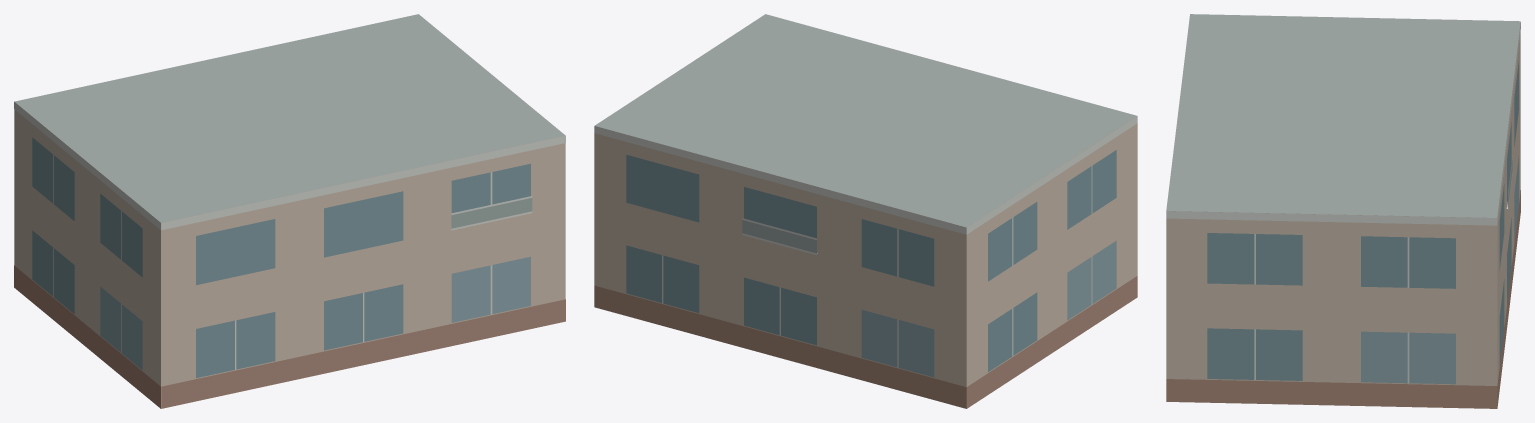
Rendered from survey-upis-32867991.glb.
3 renders of one model, left to right at view 1: azimuth 30°, elevation 25°; view 2: azimuth 150°, elevation 25°; view 3: azimuth 270°, elevation 25°, orthographic. The views are drawn at different scales.
Visible parts, largest first — view 1: survey-upis-32867991.tmp; view 2: survey-upis-32867991.tmp; view 3: survey-upis-32867991.tmp.
Boxes of the visible parts, left/top/right/bottom form: survey-upis-32867991.tmp: left=14, top=14, right=565, bottom=408; survey-upis-32867991.tmp: left=594, top=14, right=1137, bottom=408; survey-upis-32867991.tmp: left=1166, top=14, right=1520, bottom=408.
Bounding box in the file's own units: 13.99 × 6.1 × 10.28.
